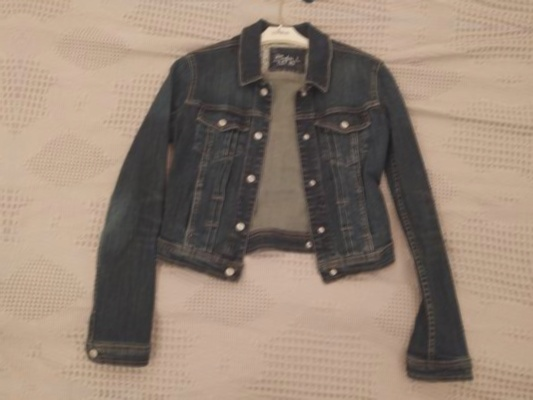Blazer: (78, 26, 509, 400)
